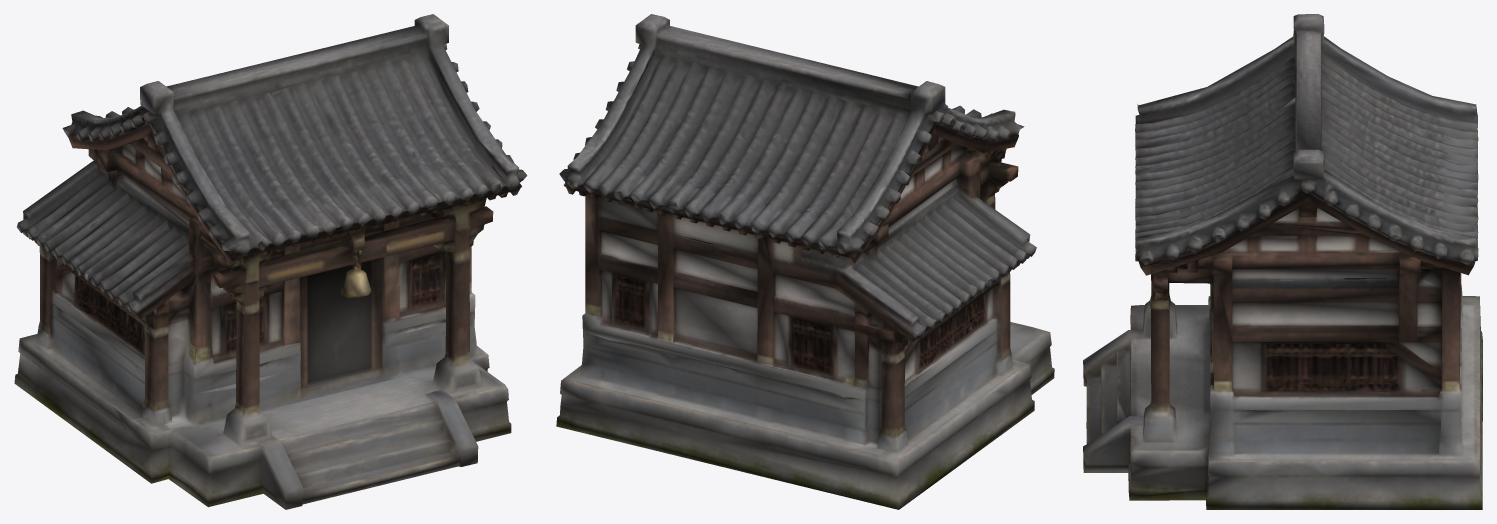
The model's file is Workshop.fbx.
3 renders of one model, left to right at view 1: azimuth 30°, elevation 25°; view 2: azimuth 150°, elevation 25°; view 3: azimuth 270°, elevation 25°, orthographic.
Parts seen in each view (by area): view 1: Workshop_LOD0; view 2: Workshop_LOD0; view 3: Workshop_LOD0.
Boxes of the visible parts, x1,y1,x2,y2 form: Workshop_LOD0: [14, 14, 527, 509]; Workshop_LOD0: [556, 14, 1054, 509]; Workshop_LOD0: [1083, 14, 1482, 509].
Size of the model in its own units: 6 by 5.62 by 5.78.
